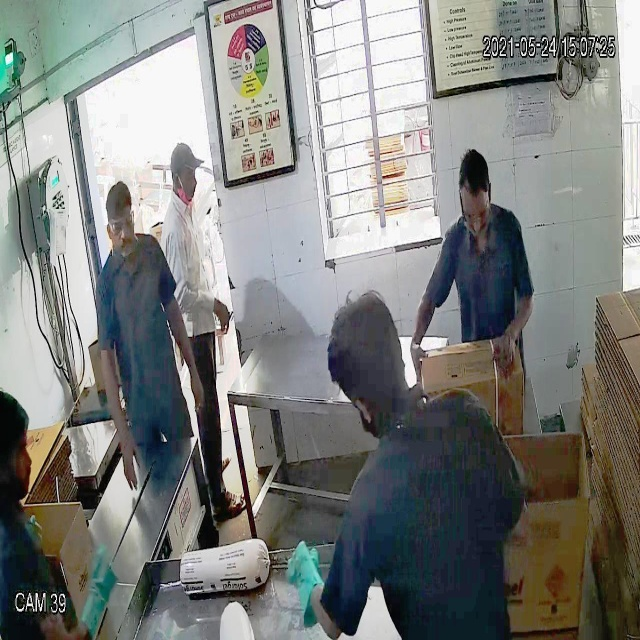Gafas: (103, 210, 136, 237)
